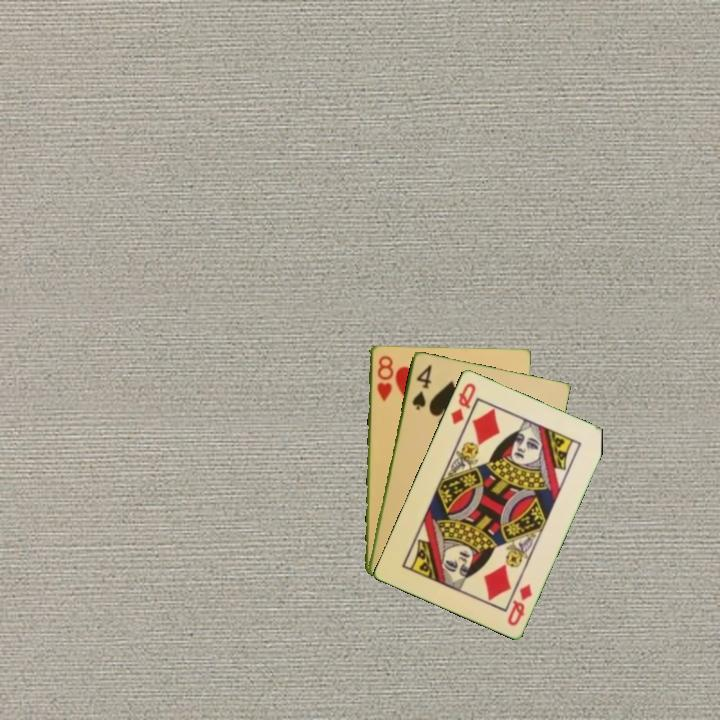4s: (408, 361, 434, 412)
8h: (373, 352, 395, 404)
Qd: (447, 379, 479, 427), (504, 580, 535, 629)
